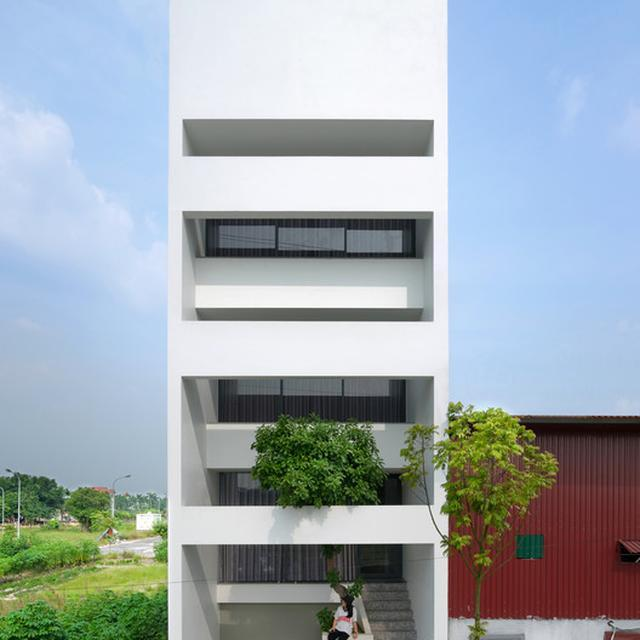building: (166, 0, 449, 640), (446, 411, 640, 640)
